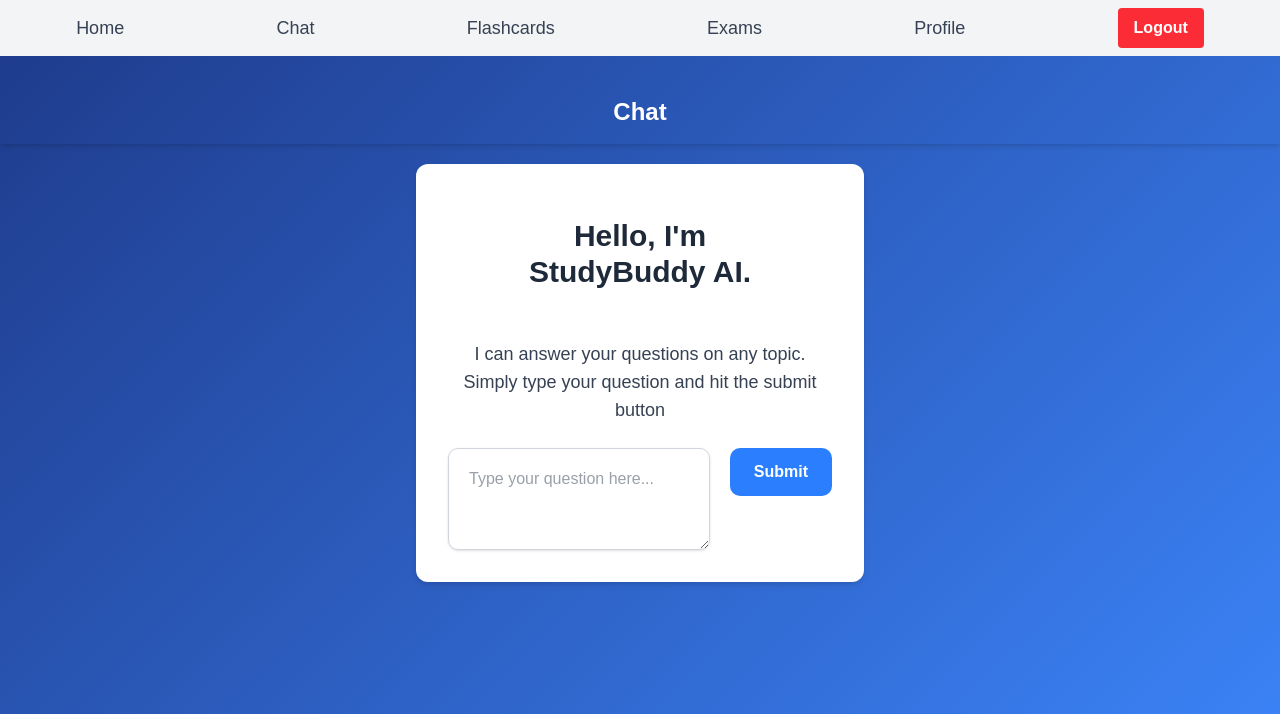
ChatPage Feature › should render markdown in the reply
In the text box with placeholder "Type your question here...": (579, 499) [448,448,710,550], type "Format this as markdown"
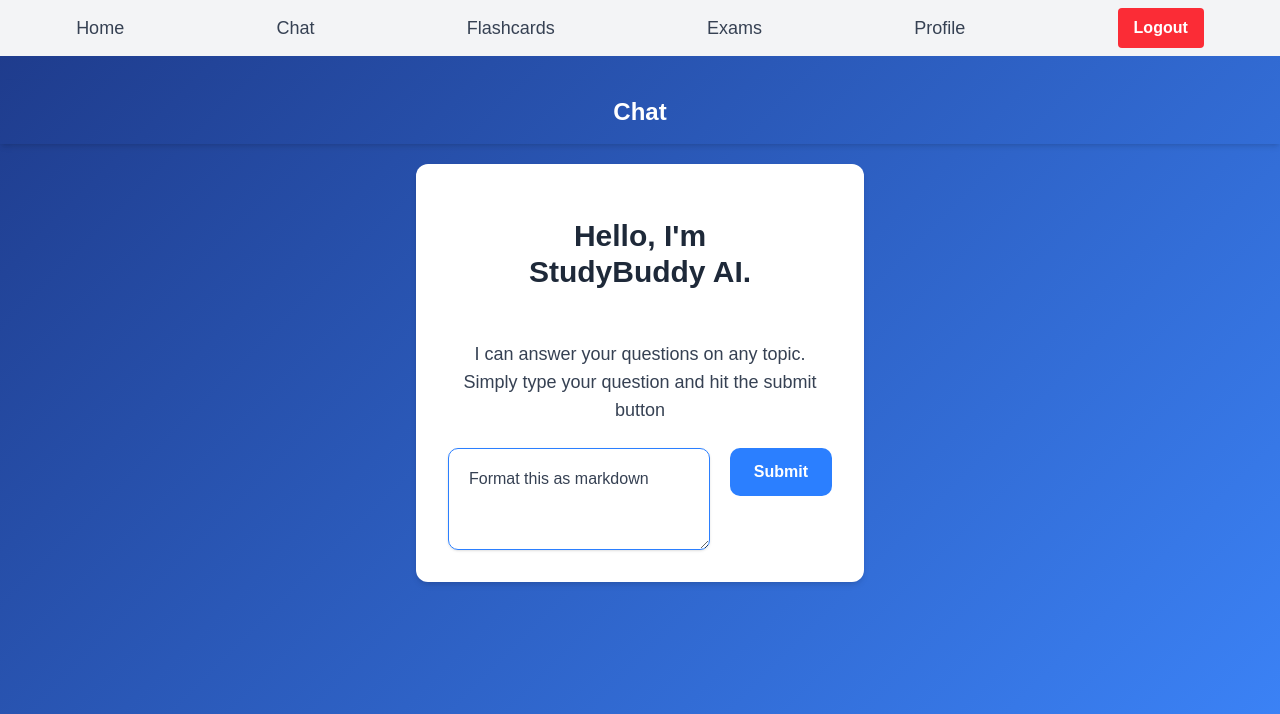
Click the button with id "submit-prompt": click(781, 472) [730,448,832,496]
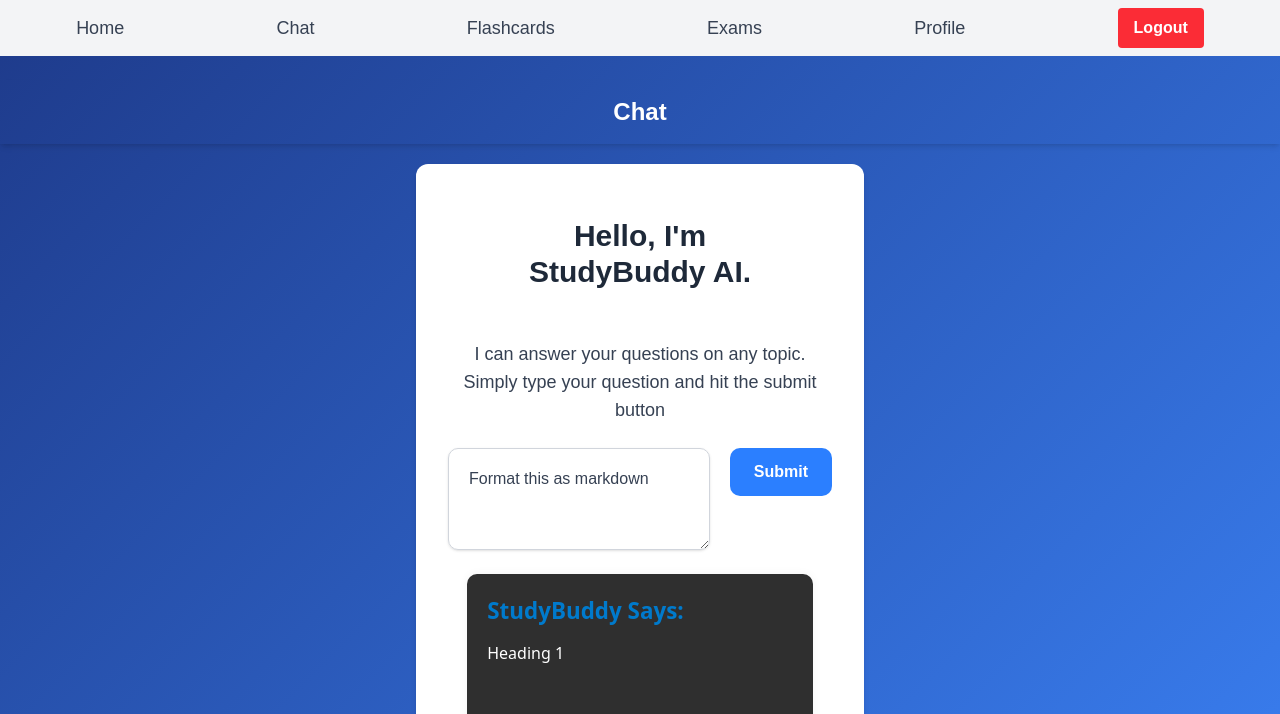
Expected: the heading "Heading 1" is shown, [487,642,564,664]
